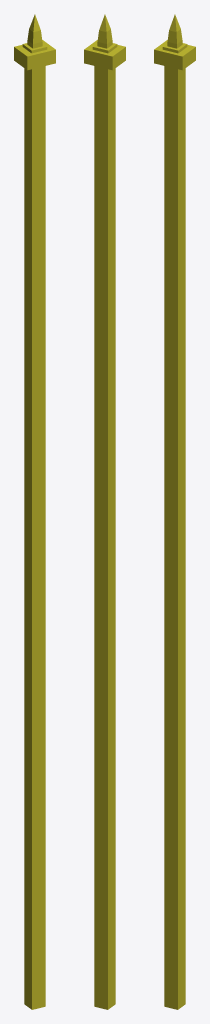
The model's file is SM_fence_end.fbx.
3 views of the same model, side by side, from view 1: azimuth 30°, elevation 25°; view 2: azimuth 150°, elevation 25°; view 3: azimuth 330°, elevation 25° (orthographic).
Visible parts, largest first — view 1: Line006; view 2: Line006; view 3: Line006.
Part boxes in pixels (left/top/right/bottom): Line006: left=14, top=14, right=55, bottom=1009; Line006: left=84, top=14, right=125, bottom=1009; Line006: left=154, top=14, right=195, bottom=1009.
Bounding box in the file's own units: 17.76 × 589 × 14.41.
